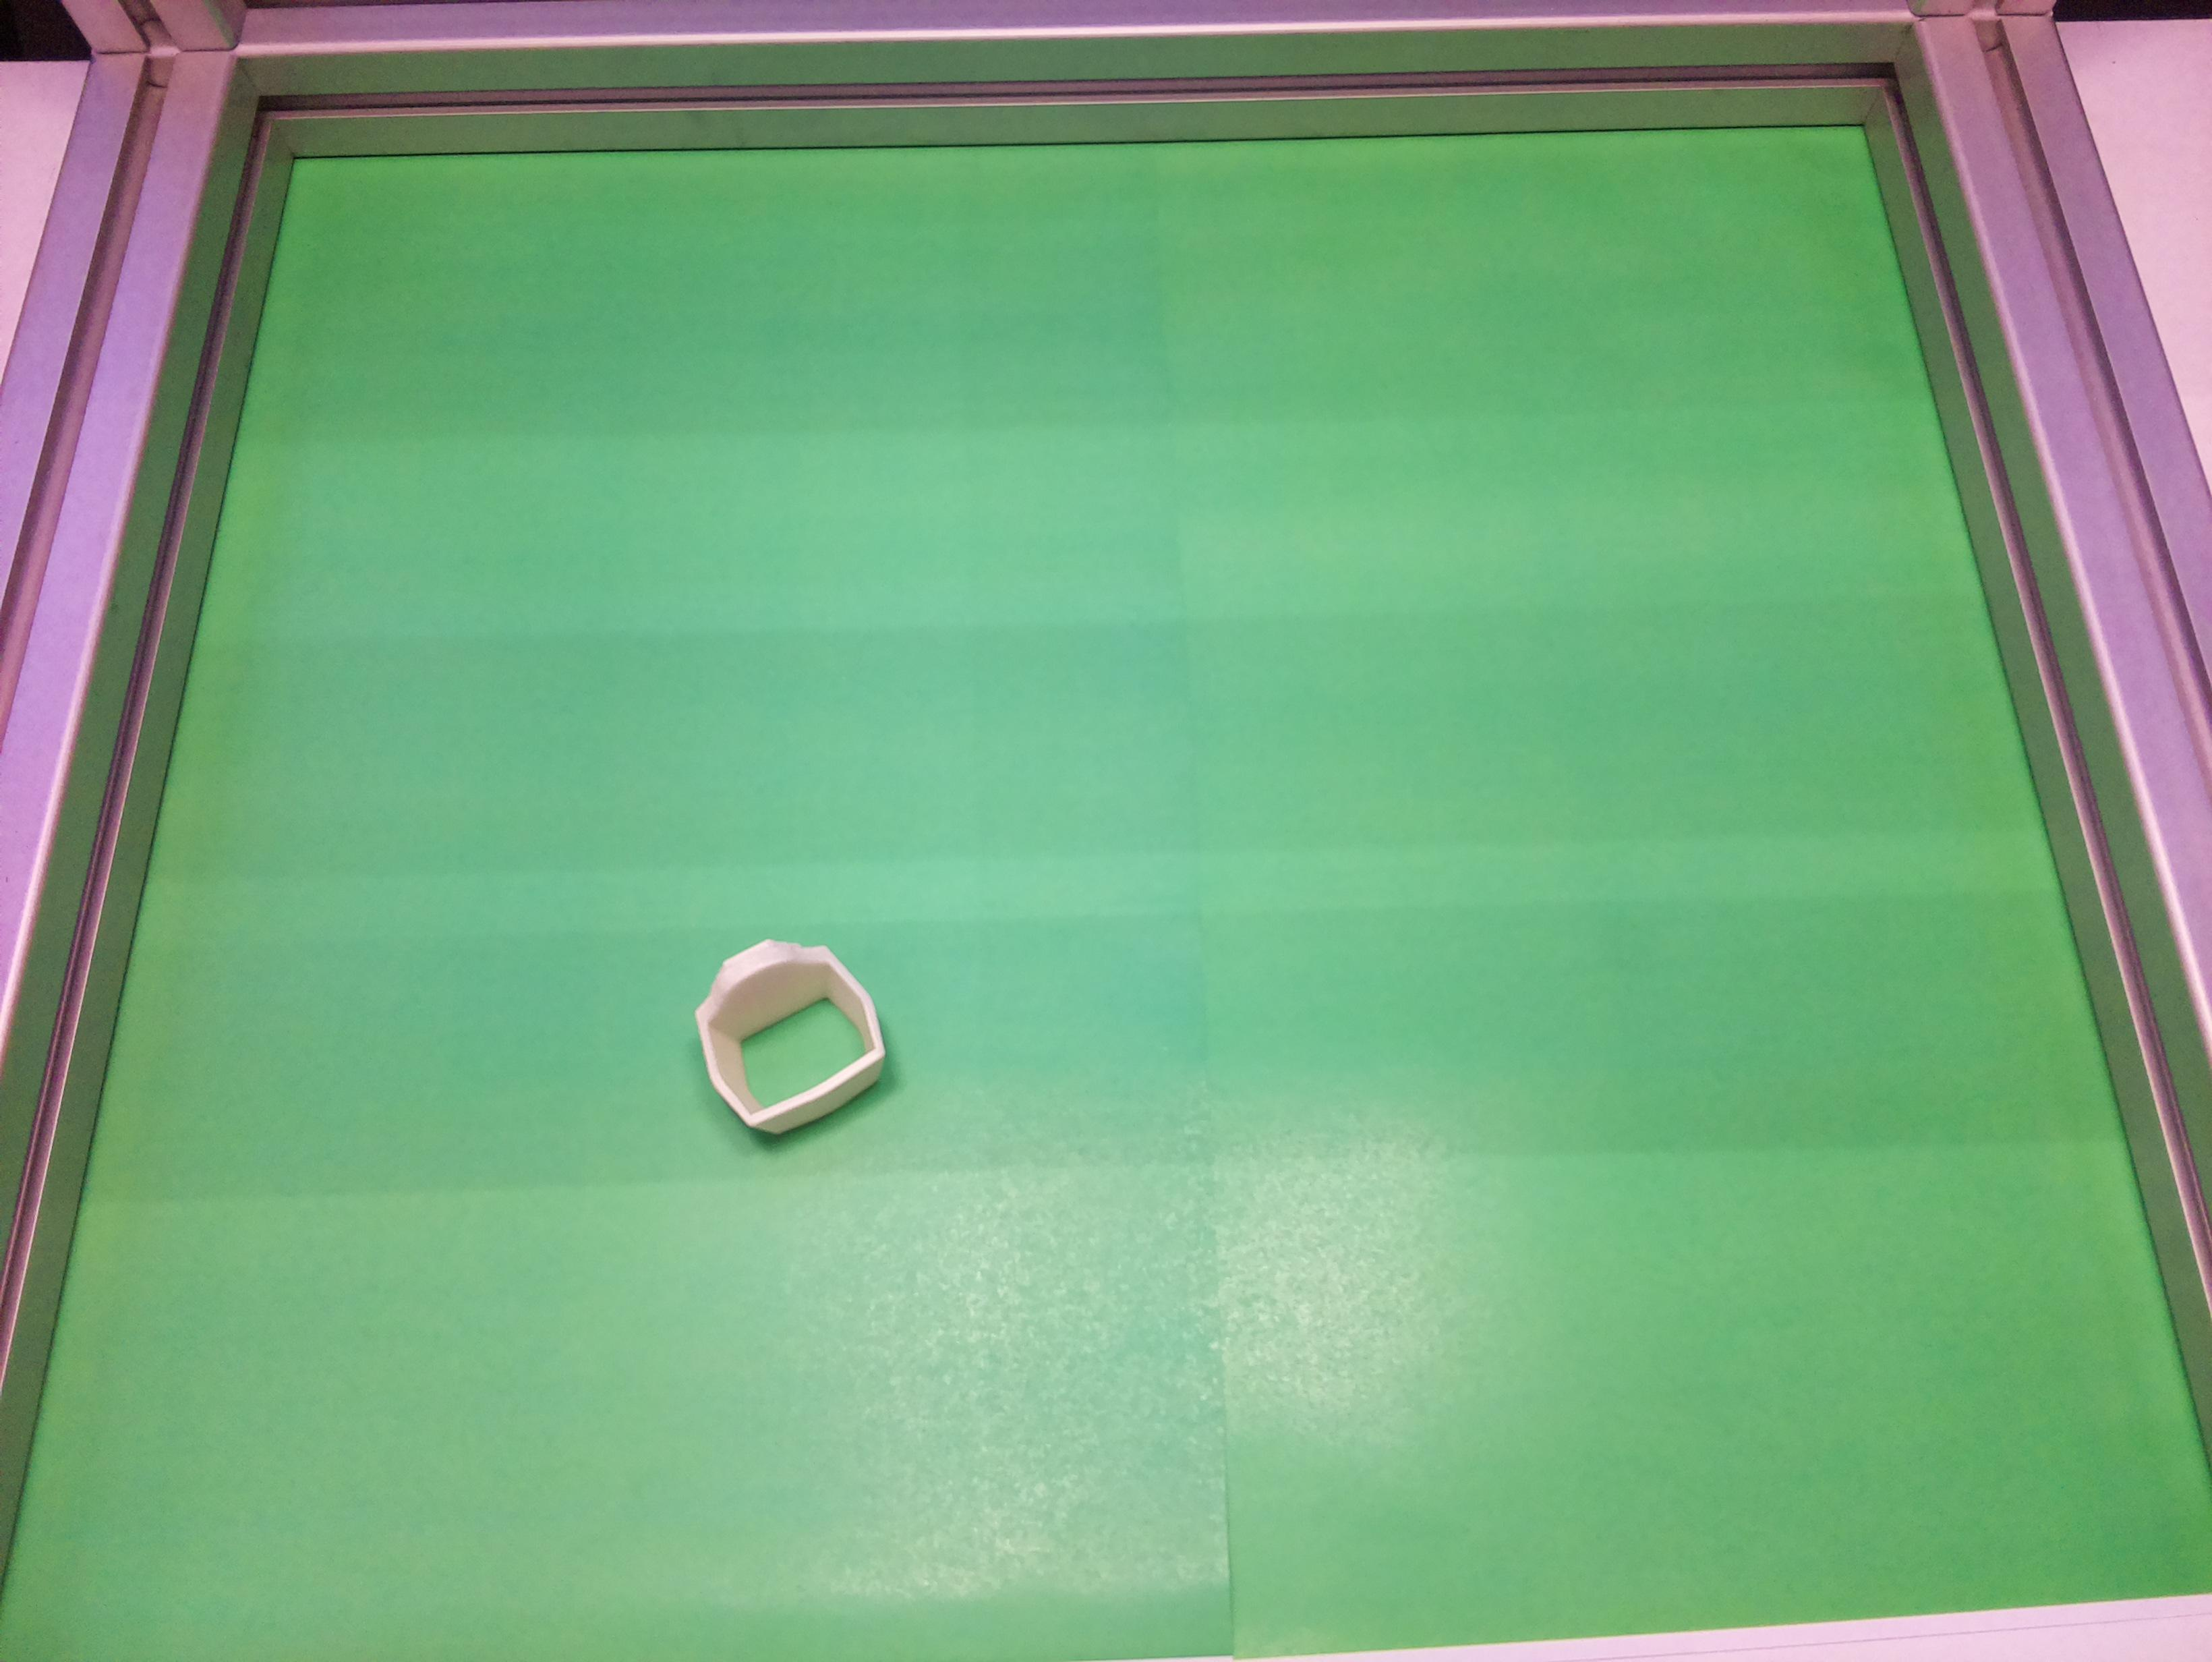tool_holder: (670, 911, 906, 1150)
